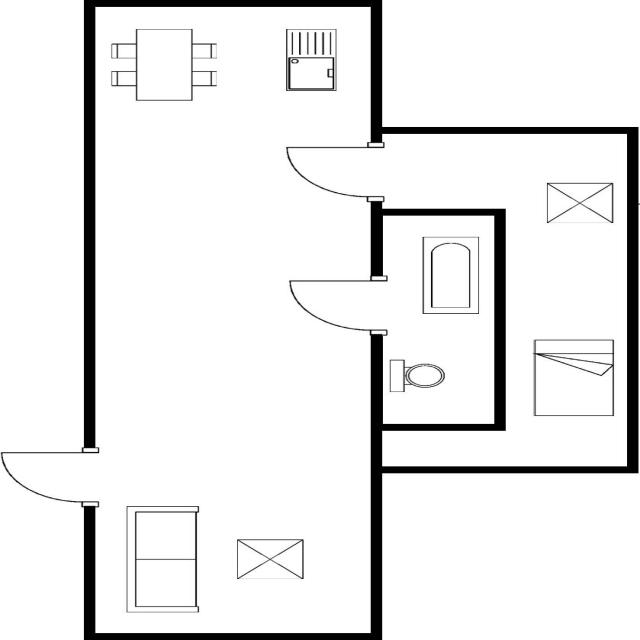bed: (528, 336, 620, 418)
coffee_table: (230, 534, 311, 582), (541, 180, 618, 227)
dining_table: (101, 24, 228, 104)
large_sink: (384, 356, 448, 397)
large_sofa: (119, 502, 204, 617)
sink: (278, 23, 342, 93)
tub: (415, 232, 485, 317)
